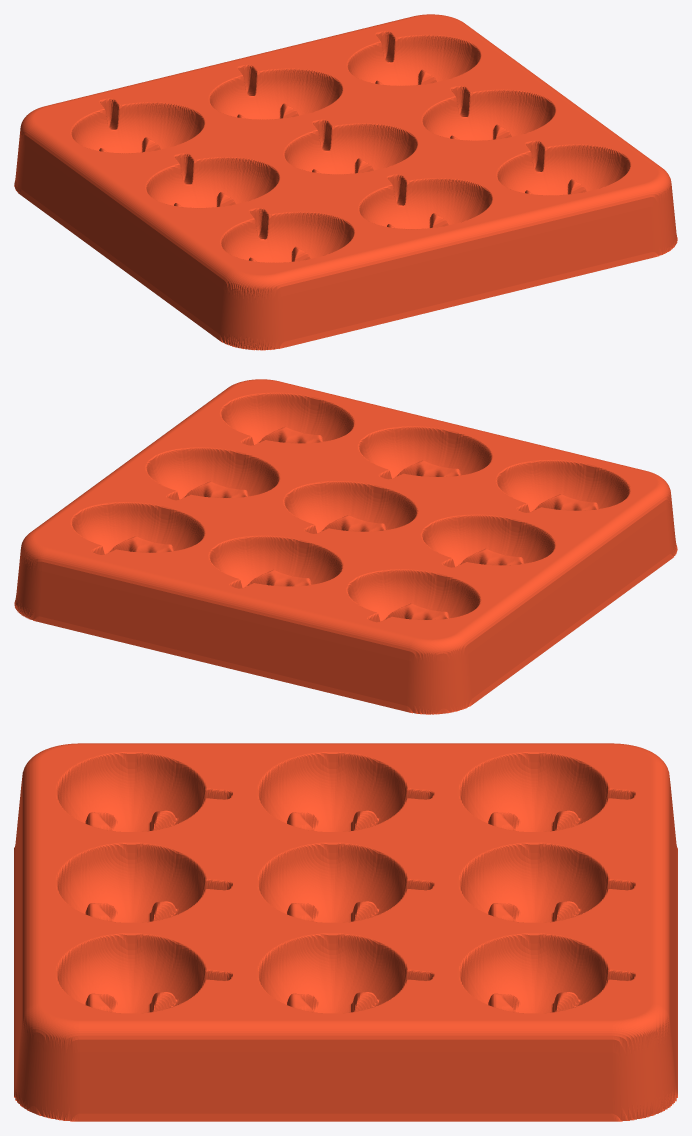
File: mold.glb
3 views of the same model, one above another, from view 1: azimuth 30°, elevation 25°; view 2: azimuth 150°, elevation 25°; view 3: azimuth 270°, elevation 25° (orthographic). The views are drawn at different scales.
Visible parts, largest first — view 1: geometry_0; view 2: geometry_0; view 3: geometry_0.
Part boxes in pixels (box(x1,y1,x2,y2)): geometry_0: box(14, 14, 677, 350); geometry_0: box(14, 379, 677, 714); geometry_0: box(14, 743, 677, 1121).
Bounding box in the file's own units: 0.0964 × 0.0136 × 0.091.
